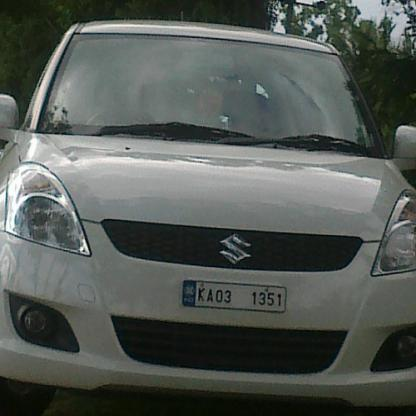license_plate: (182, 279, 286, 312)
